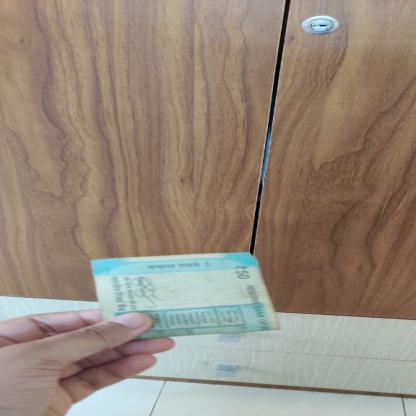New50Back: (94, 252, 282, 339)
